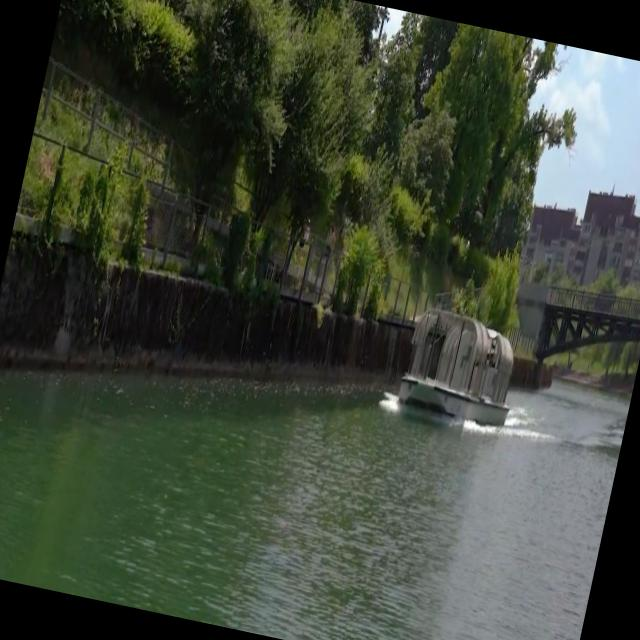boat: (395, 294, 531, 431)
